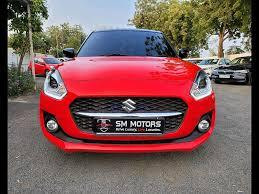Normal Automobiles: (39, 29, 214, 151), (211, 56, 251, 84), (198, 57, 230, 77), (34, 56, 61, 75)
